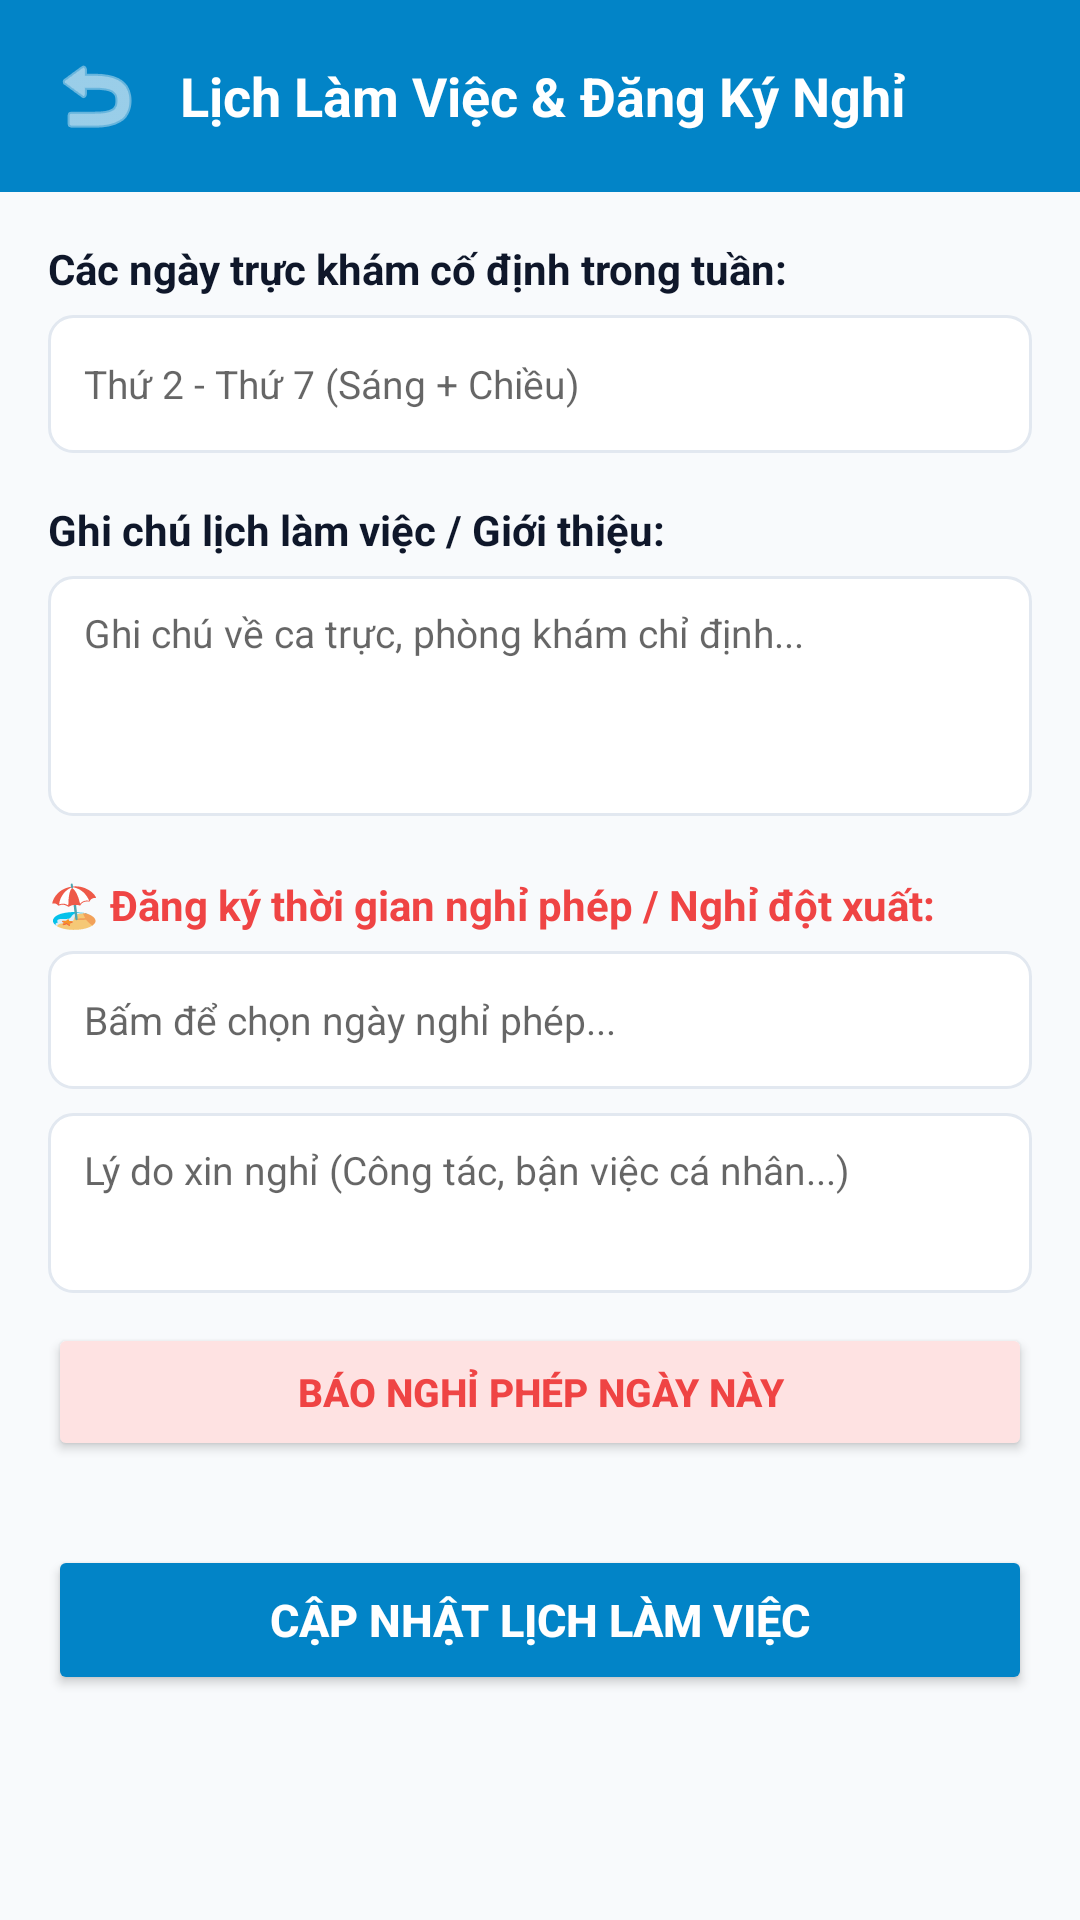

Locate icon controls on the screen. Image size 1080 × 1920, boxes as (x1,y1,x2,y2).
revert: (63,65,132,128)
